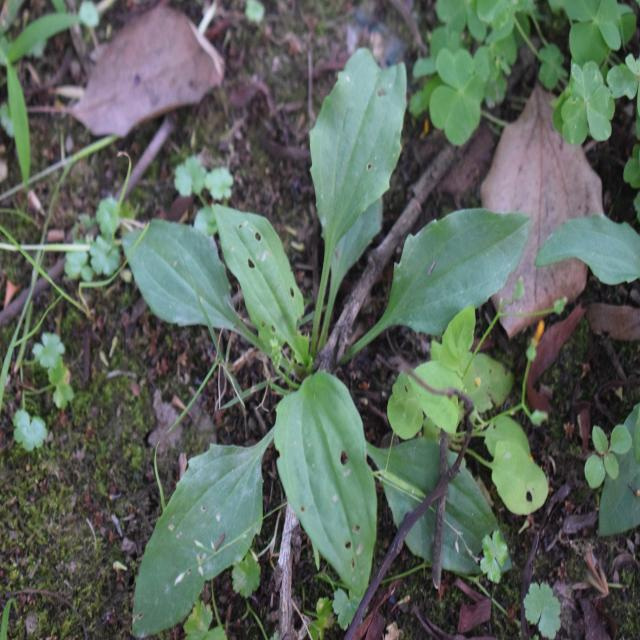plantain: (148, 71, 510, 584)
